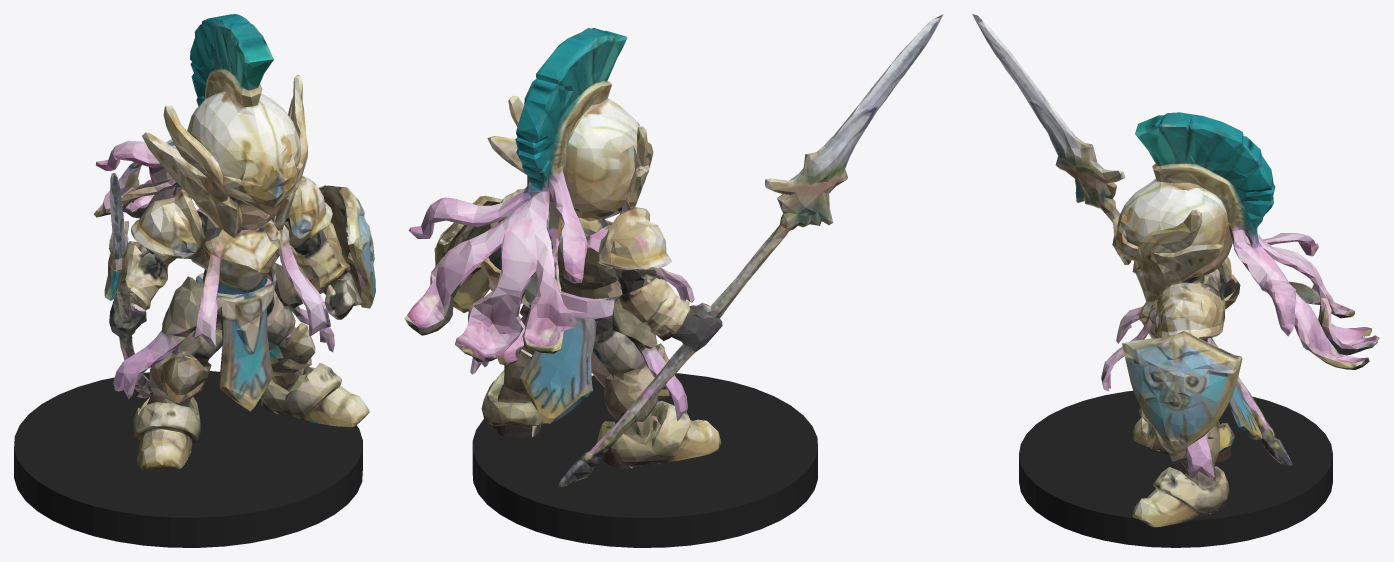
The model's file is lrl-warden.glb.
3 views of the same model, side by side, from view 1: azimuth 30°, elevation 25°; view 2: azimuth 150°, elevation 25°; view 3: azimuth 270°, elevation 25° (orthographic). The views are drawn at different scales.
Parts seen in each view (by area): view 1: figure, base; view 2: figure, base; view 3: figure, base.
Part boxes in pixels (<box>): figure: <box>94,14,375,469</box>; base: <box>14,371,362,547</box>; figure: <box>404,14,943,486</box>; base: <box>472,373,817,547</box>; figure: <box>972,14,1379,527</box>; base: <box>1019,390,1332,547</box>.
Size of the model in its own units: 1.56 by 1.72 by 1.64.
2 materials, 1 textured.
